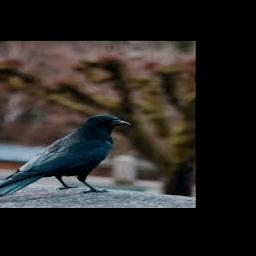Crow: (0, 114, 131, 197)
